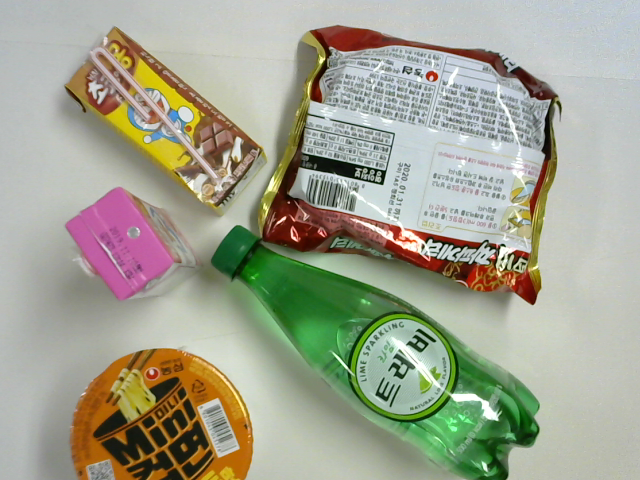Choco_E_Mong: (31, 29, 257, 211)
Sichuan_Chapaghetti: (253, 37, 545, 280)
Strawberry_E_Mong: (56, 188, 190, 315)
Treviraim_500ml: (221, 218, 532, 478)
Udongmini: (75, 341, 274, 480)
